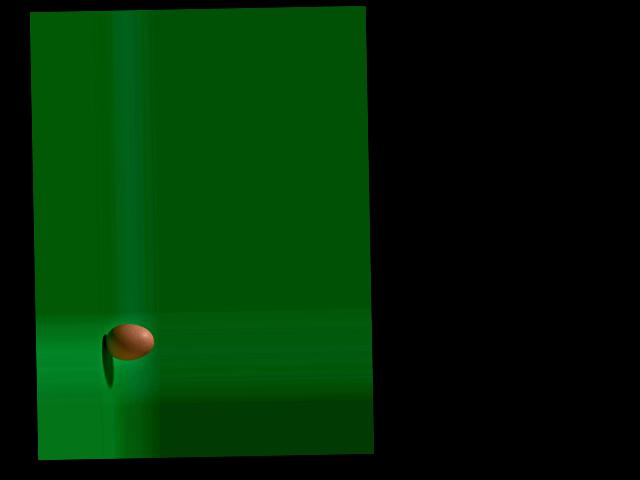egg: (104, 323, 153, 361)
